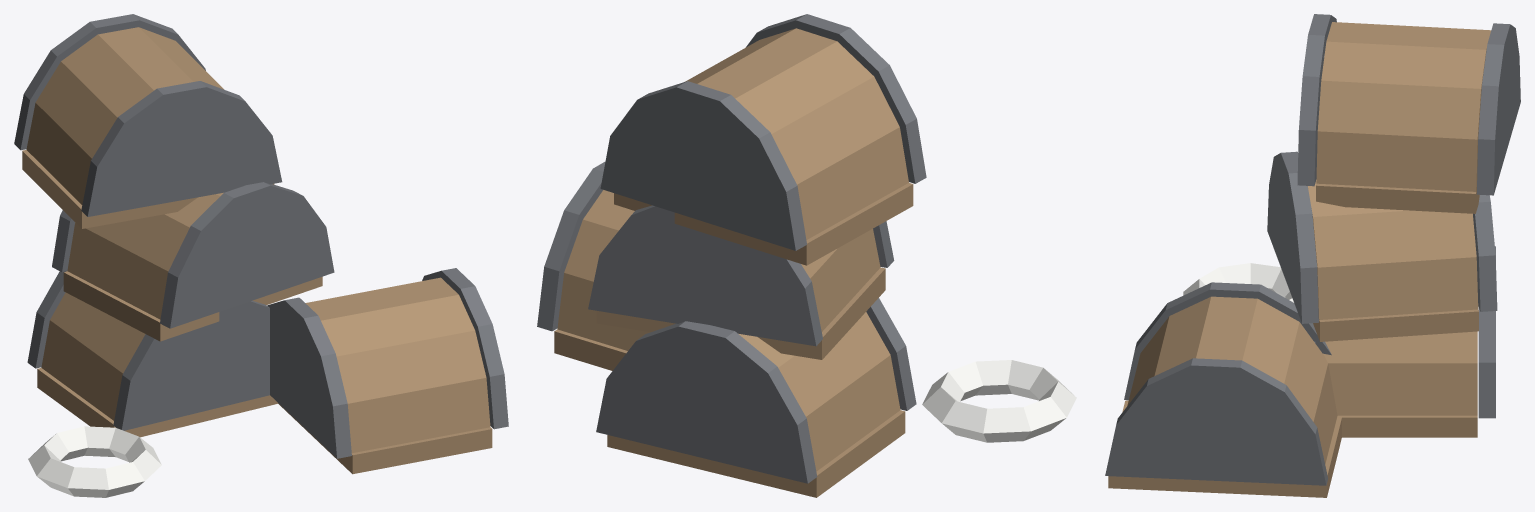
The model's file is lighthouse-and-rocky-coast-lobster-pot-stack-3ae53349__36621.glb.
The picture shows the model from 3 angles, left to right: view 1: azimuth 30°, elevation 25°; view 2: azimuth 150°, elevation 25°; view 3: azimuth 270°, elevation 25°; orthographic projection. The views are drawn at different scales.
Parts seen in each view (by area): view 1: lobster-pot-stack; view 2: lobster-pot-stack; view 3: lobster-pot-stack.
Part boxes in pixels (x1,y1,x2,y2): lobster-pot-stack: (14, 14, 508, 497); lobster-pot-stack: (537, 14, 1076, 497); lobster-pot-stack: (1105, 14, 1520, 497).
Bounding box in the file's own units: 2.1 × 1.61 × 1.7.
